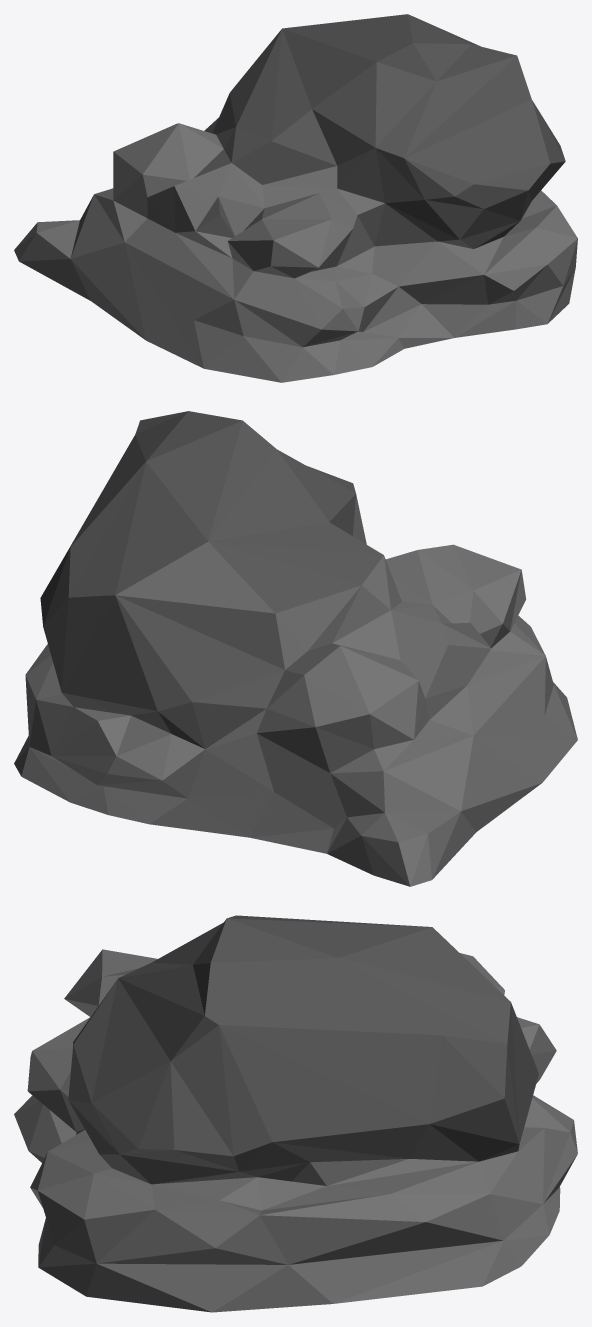
The model's file is stoun_2.fbx.
3 renders of one model, top to bottom at view 1: azimuth 30°, elevation 25°; view 2: azimuth 150°, elevation 25°; view 3: azimuth 270°, elevation 25°, orthographic. The views are drawn at different scales.
Visible parts, largest first — view 1: Object.001; view 2: Object.001; view 3: Object.001.
Part boxes in pixels (left/top/right/bottom): Object.001: left=14, top=14, right=577, bottom=382; Object.001: left=14, top=411, right=577, bottom=886; Object.001: left=14, top=915, right=577, bottom=1312.
Bounding box in the file's own units: 932 × 530 × 861.
